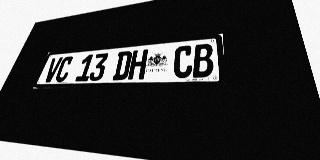1: (75, 54, 96, 81)
3: (88, 53, 109, 81)
B: (193, 43, 214, 78)
C: (173, 45, 193, 78), (54, 56, 74, 82)
D: (112, 51, 133, 80)
H: (127, 49, 148, 80)
V: (42, 57, 63, 83)
